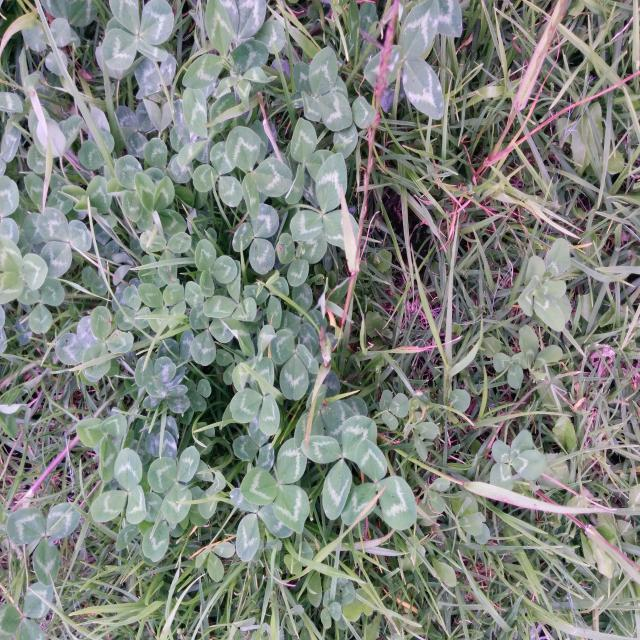Four Leaf Clover: (520, 256, 566, 332), (490, 430, 546, 491)
